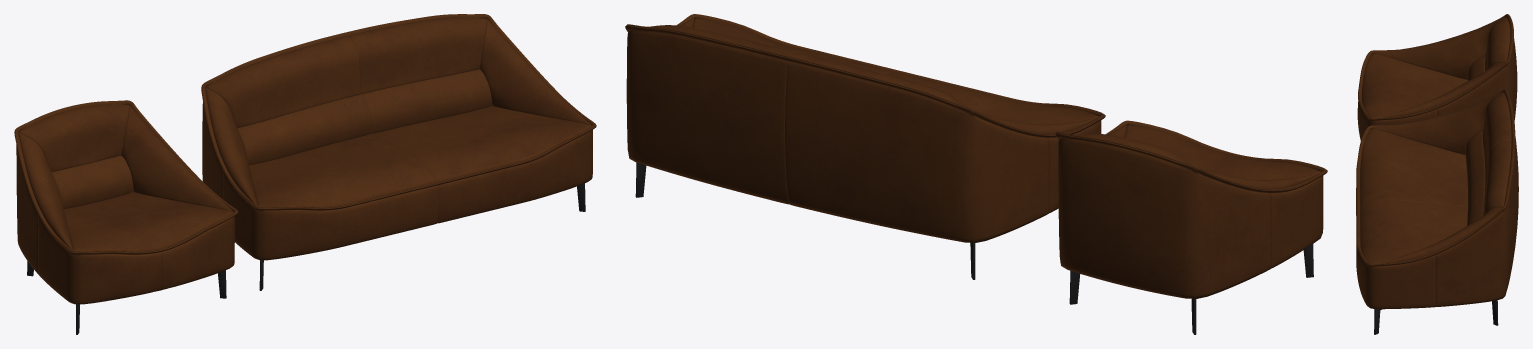
Rendered from sofa.gltf.
3 views of the same model, side by side, from view 1: azimuth 30°, elevation 25°; view 2: azimuth 150°, elevation 25°; view 3: azimuth 270°, elevation 25° (orthographic). The views are drawn at different scales.
Size of the model in its own units: 2912 by 829 by 934.
Materials: 3 (2 with a texture image).
